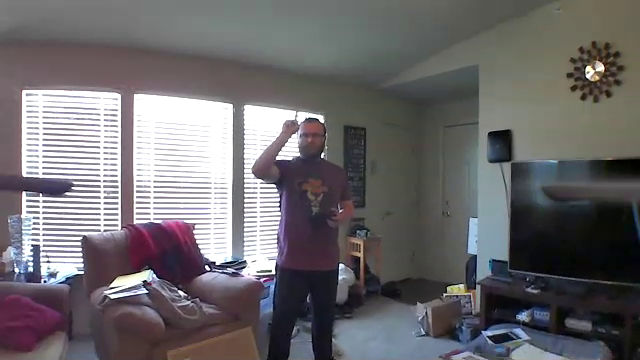up: (280, 101, 302, 137)
